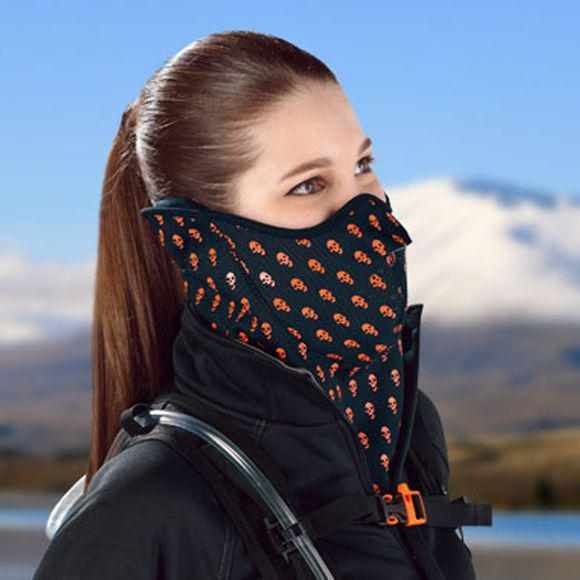OK: (201, 130, 406, 343)
